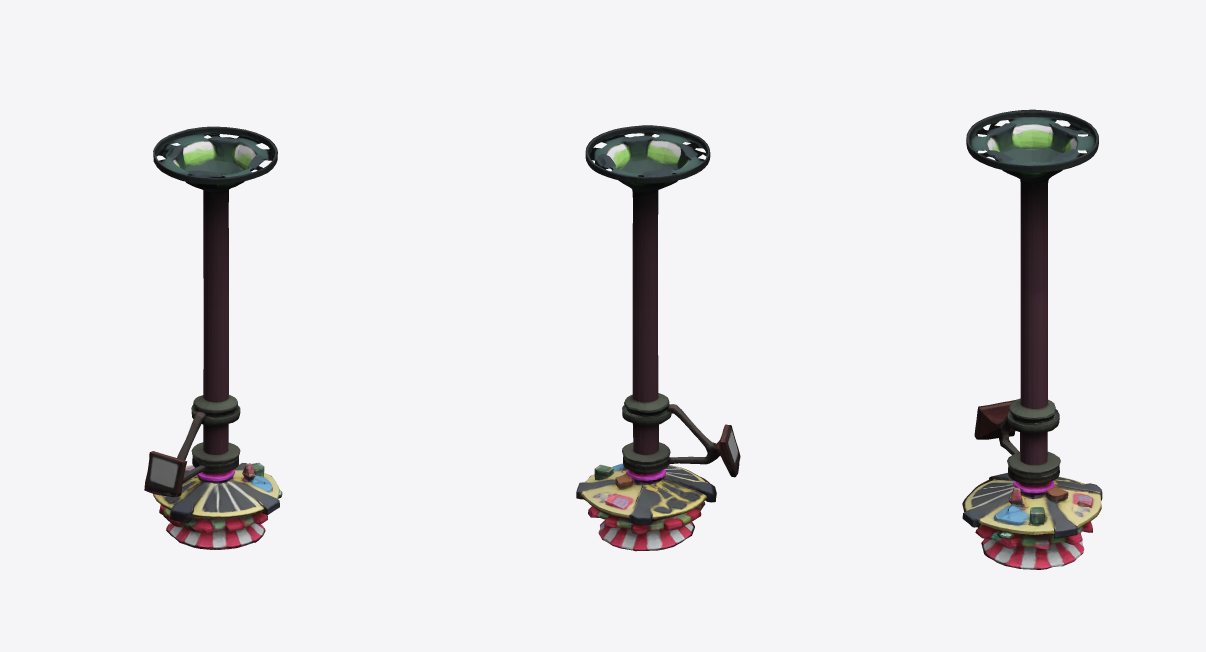
The model's file is nano3d.glb.
3 views of the same model, side by side, from view 1: azimuth 30°, elevation 25°; view 2: azimuth 150°, elevation 25°; view 3: azimuth 270°, elevation 25° (orthographic). The views are drawn at different scales.
Visible parts, largest first — view 1: world; view 2: world; view 3: world.
Part boxes in pixels (<box>): world: <box>144,126,282,549</box>; world: <box>576,125,740,551</box>; world: <box>962,109,1102,569</box>.
Bounding box in the file's own units: 0.649 × 1.1 × 0.6425.
2 materials, 1 textured.
